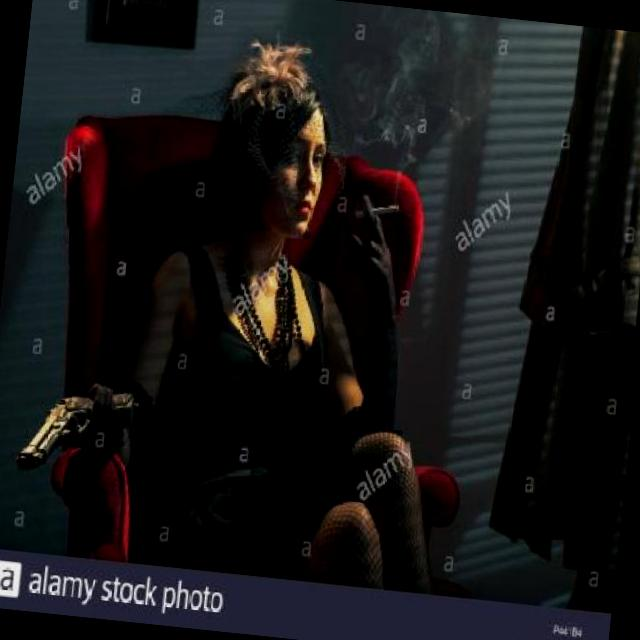cigarette: (350, 197, 400, 225)
